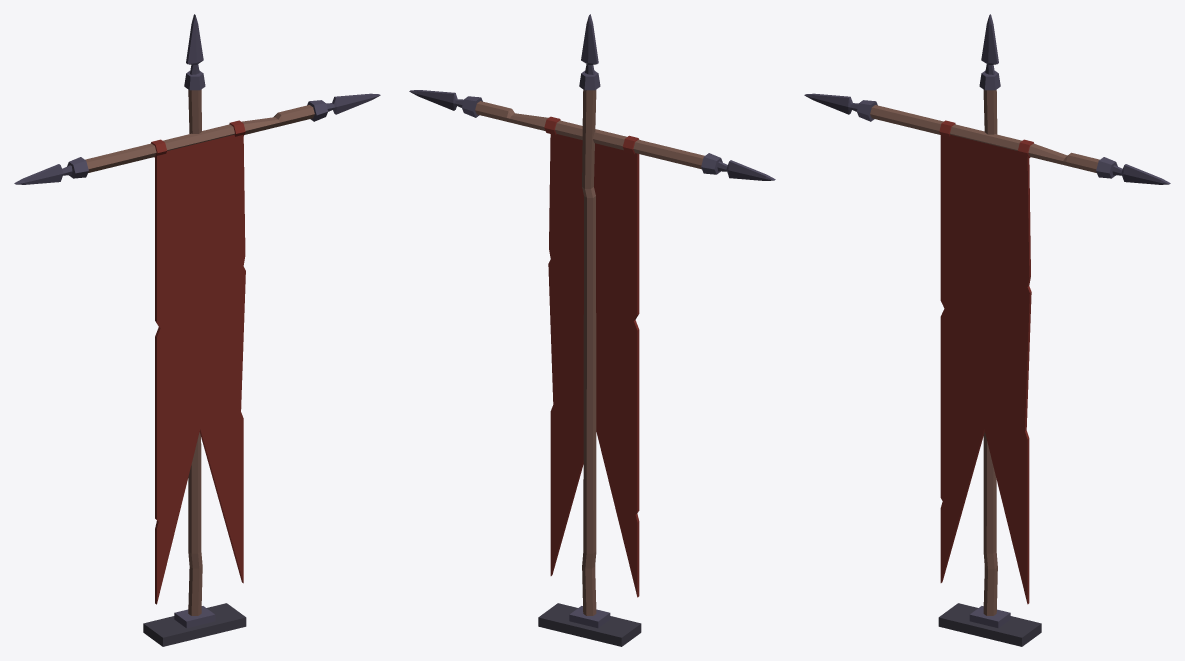
Rendered from Dungeon_Banner.glb.
The picture shows the model from 3 angles, left to right: view 1: azimuth 30°, elevation 25°; view 2: azimuth 150°, elevation 25°; view 3: azimuth 330°, elevation 25°; orthographic projection.
Parts seen in each view (by area): view 1: Banner; view 2: Banner; view 3: Banner.
Part boxes in pixels (x1=…): Banner: x1=14, y1=14, x2=380, y2=646; Banner: x1=409, y1=14, x2=775, y2=646; Banner: x1=804, y1=14, x2=1170, y2=646.
Bounding box in the file's own units: 2.36 × 3.8 × 0.2193.
